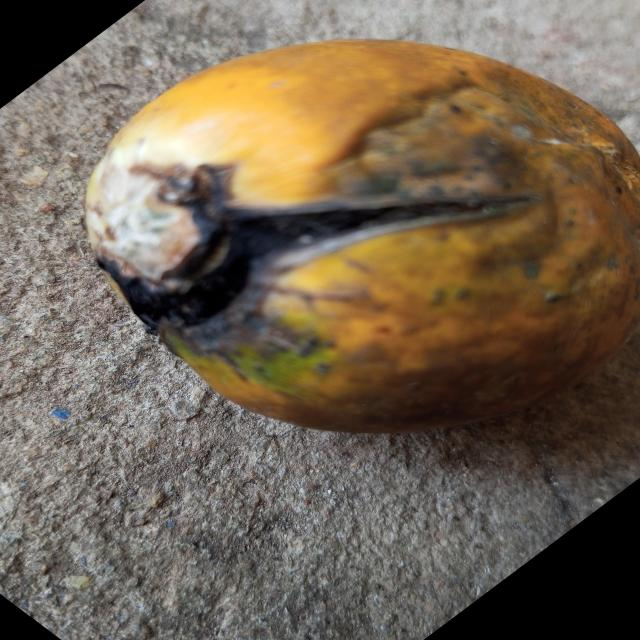damaged: (86, 40, 640, 432)
